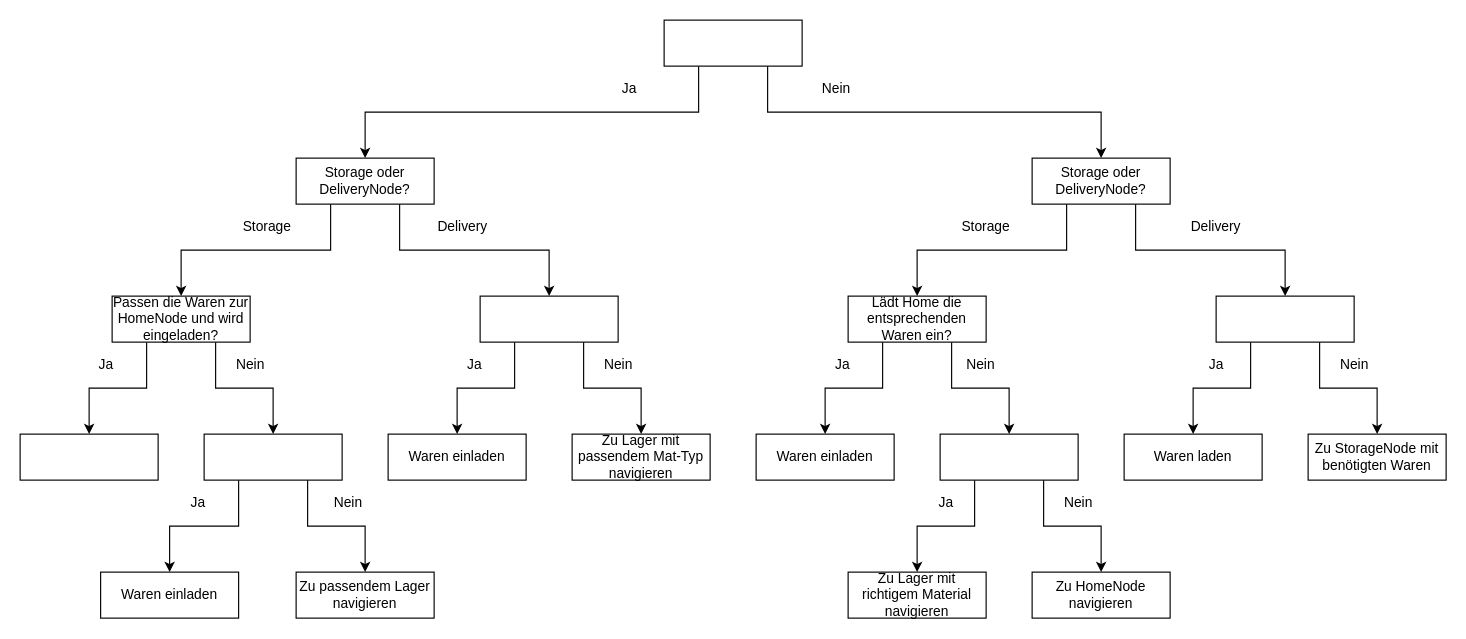
The diagram is 1466 pixels wide and 639 high, and some of its shapes have lost their labels. The box of each missing label's shape, as (x1, y1, x2, y2) in pixels:
Lädt Home ein?: (939, 433, 1078, 480)
Lädt Home Waren aus?: (1215, 295, 1354, 342)
Passen die Waren zur aktuellen Node?: (203, 433, 342, 480)
Sind Waren im Inventar?: (663, 19, 802, 66)
Wird eingeladen und passen die Waren?: (479, 295, 618, 342)
Zur HomeNode fahren: (19, 433, 158, 480)
